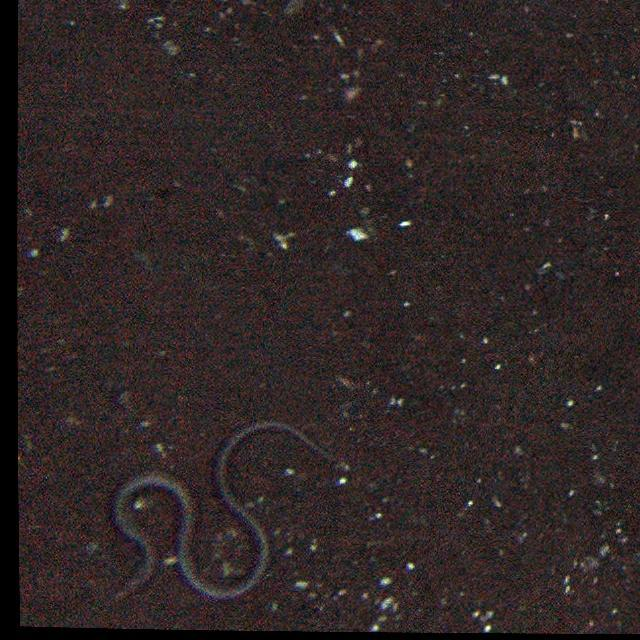eel: (106, 421, 340, 606)
